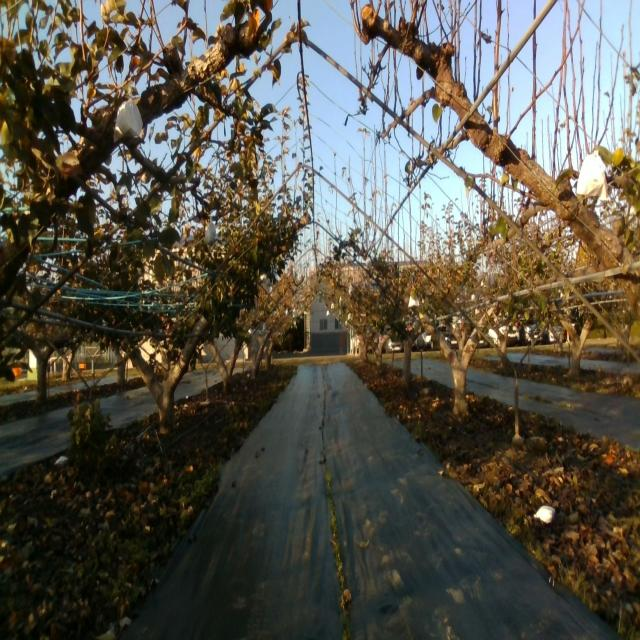pearbags: (114, 87, 144, 145), (576, 149, 608, 202), (205, 222, 216, 254)
